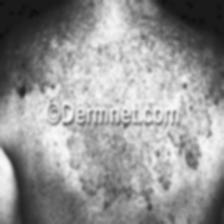Toxin: (103, 56, 136, 95), (20, 85, 26, 101)
